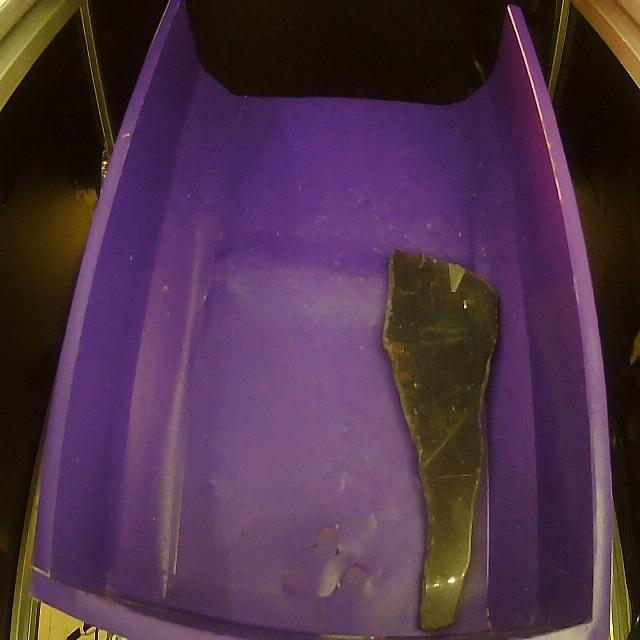china: (375, 236, 508, 634)
